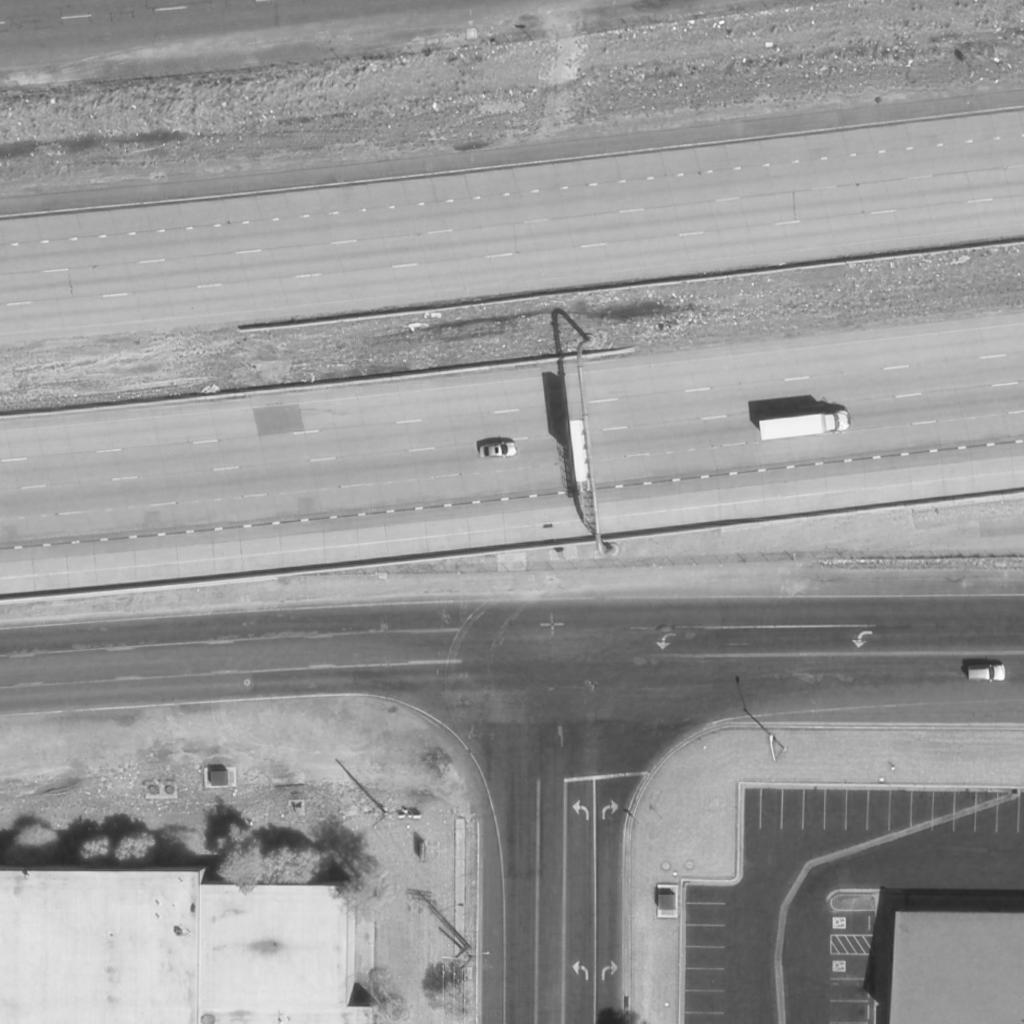vehicle: (758, 411, 854, 441), (966, 663, 1008, 683), (476, 442, 518, 458)
